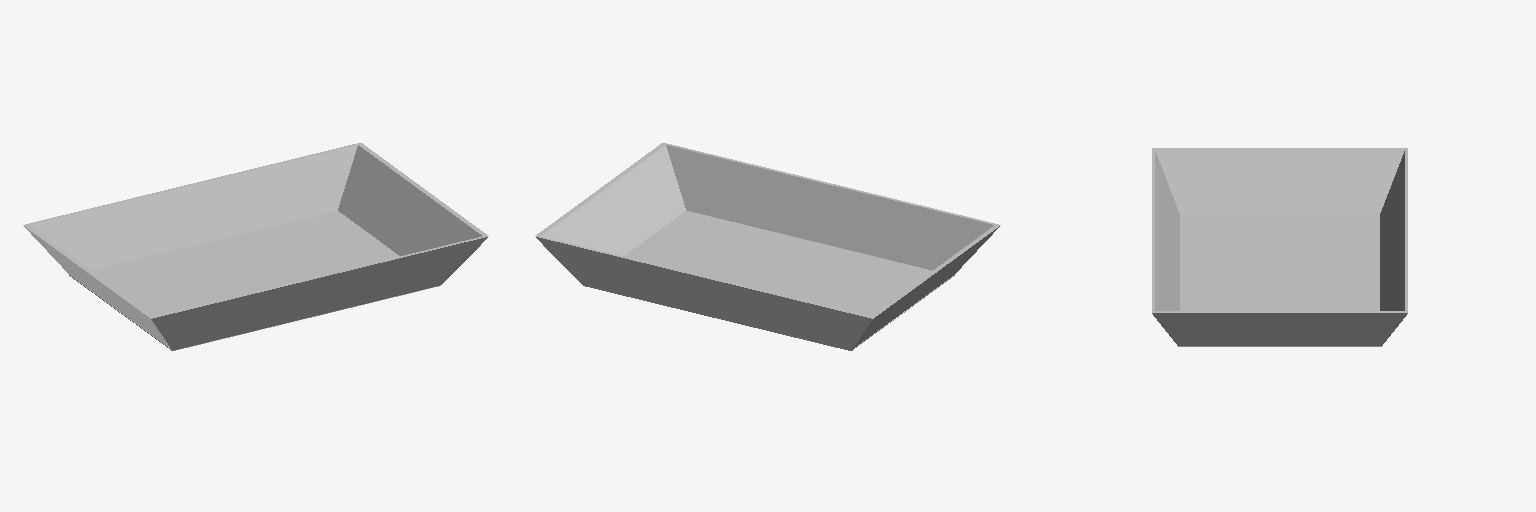
File: Room11.obj
The picture shows the model from 3 angles: view 1: azimuth 30°, elevation 25°; view 2: azimuth 150°, elevation 25°; view 3: azimuth 270°, elevation 25°; orthographic projection.
Parts seen in each view (by area): view 1: Room11, Piso1; view 2: Room11, Piso1; view 3: Room11, Piso1.
Part boxes in pixels (x1,y1,x2,y2): Room11: (23, 143, 488, 350); Piso1: (69, 211, 399, 349); Room11: (535, 143, 1000, 350); Piso1: (582, 211, 954, 350); Room11: (1152, 148, 1407, 346); Piso1: (1180, 215, 1379, 310).
Size of the model in its own units: 35 by 5 by 23.